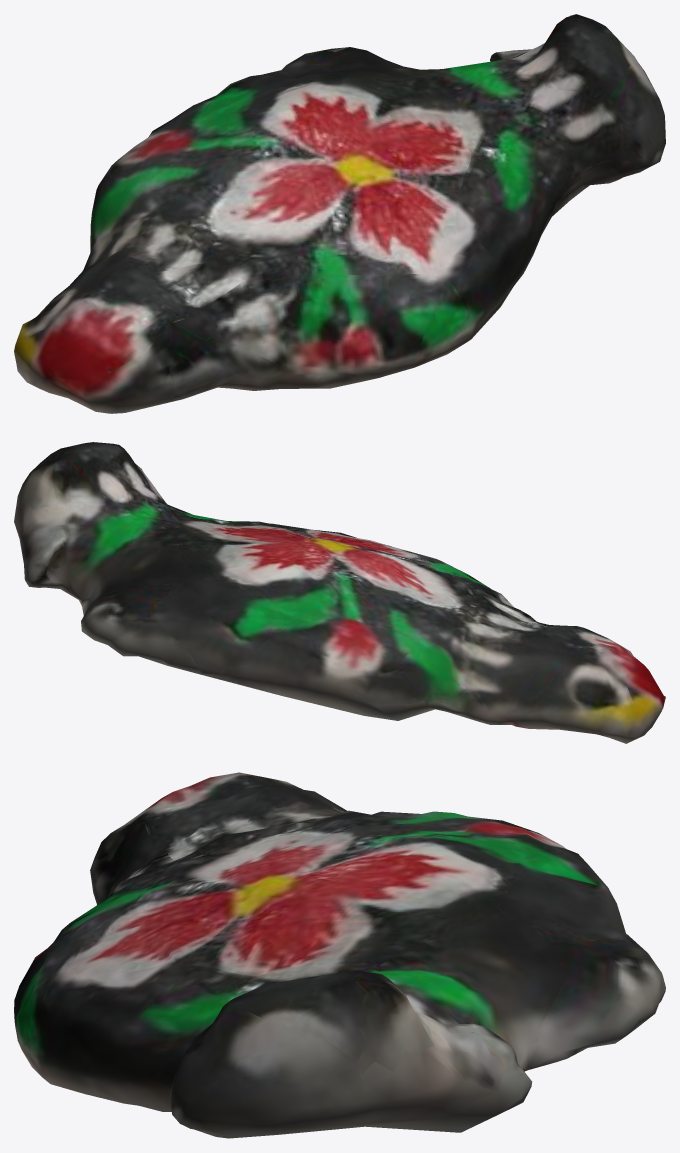
The model's file is hall.glb.
3 views of the same model, one above another, from view 1: azimuth 30°, elevation 25°; view 2: azimuth 150°, elevation 25°; view 3: azimuth 270°, elevation 25° (orthographic). The views are drawn at different scales.
Bounding box in the file's own units: 0.6976 × 0.2133 × 0.4336.
1 material, 1 textured.
